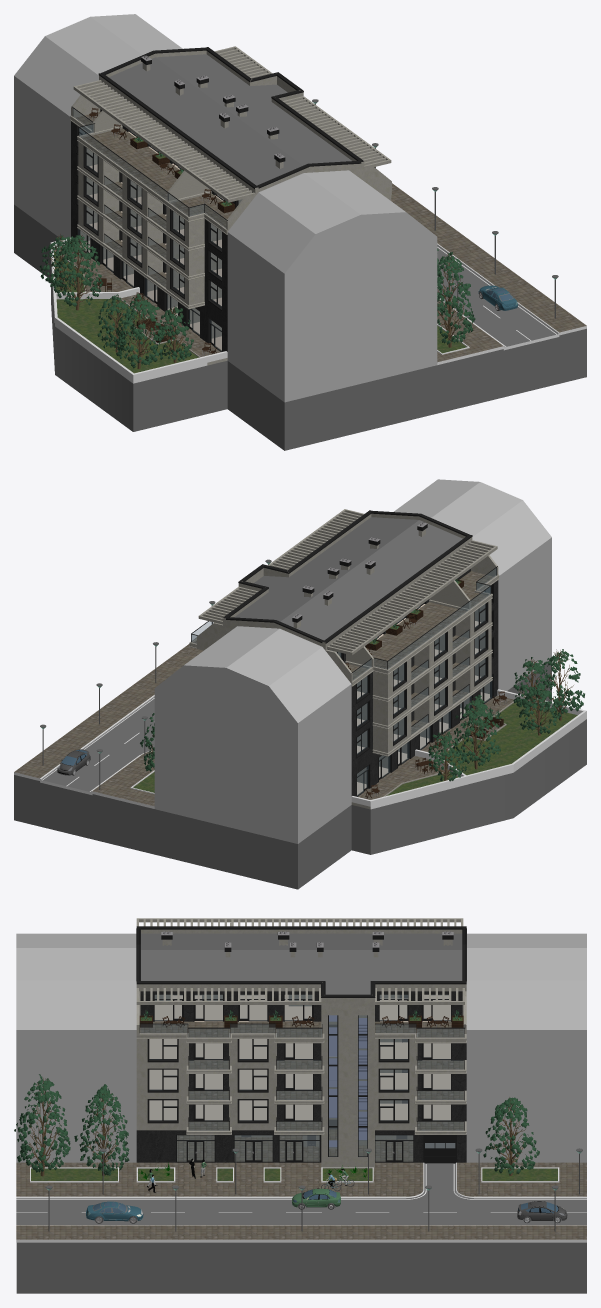
The model's file is building.glb.
The picture shows the model from 3 angles, top to bottom: view 1: azimuth 30°, elevation 25°; view 2: azimuth 150°, elevation 25°; view 3: azimuth 270°, elevation 25°; orthographic projection. The views are drawn at different scales.
Parts seen in each view (by area): view 1: 11 011, Line001, 0 011, 7 011, 3 011, 2 011, 25 011, 16 011, 12 011, Object001, 1 011, 24 011 (+4 smaller); view 2: 11 011, Line001, 0 011, 7 011, 3 011, 2 011, 25 011, 16 011, 12 011, Object001, 1 011, 6 011 (+4 smaller); view 3: 11 011, 3 011, Line001, 7 011, 0 011, 16 011, 2 011, 4 011, 1 011, Object001, 25 011, 12 011 (+9 smaller).
Boxes of the visible parts, box(x1,y1,x2,y2) form: 11 011: box(14, 14, 437, 402); Line001: box(14, 204, 586, 450); 0 011: box(54, 46, 391, 365); 7 011: box(109, 54, 557, 346); 3 011: box(76, 112, 586, 362); 2 011: box(71, 47, 374, 351); 25 011: box(39, 235, 475, 368); 16 011: box(73, 108, 241, 351); 12 011: box(54, 252, 466, 373); Object001: box(50, 237, 586, 383); 1 011: box(71, 109, 235, 351); 24 011: box(47, 234, 464, 368); 11 011: box(154, 479, 551, 843); Line001: box(14, 660, 586, 889); 0 011: box(189, 509, 513, 809); 7 011: box(41, 517, 462, 791); 3 011: box(14, 571, 493, 806); 2 011: box(191, 510, 497, 796); 25 011: box(140, 649, 584, 781); 16 011: box(191, 568, 496, 795); 12 011: box(133, 701, 577, 795); Object001: box(14, 689, 586, 809); 1 011: box(327, 569, 498, 796); 6 011: box(357, 695, 513, 799); 11 011: box(16, 933, 586, 1162); 3 011: box(16, 1021, 586, 1239); Line001: box(16, 1143, 586, 1293); 7 011: box(16, 933, 586, 1224); 0 011: box(136, 918, 466, 1168); 16 011: box(140, 995, 463, 1161); 2 011: box(136, 926, 466, 1163); 4 011: box(149, 994, 450, 1120); 1 011: box(136, 991, 466, 1162); Object001: box(16, 1162, 586, 1242); 25 011: box(14, 1074, 539, 1175); 12 011: box(31, 1168, 557, 1180).
Size of the model in its own units: 43.51 by 23.57 by 50.9.
53 materials, 5 textured.
